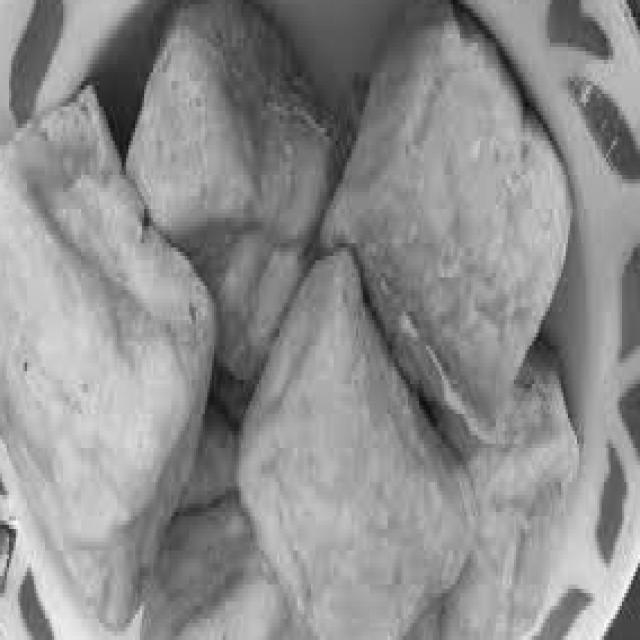tahu: (0, 116, 207, 602), (338, 36, 575, 428), (113, 12, 339, 362), (248, 294, 471, 640)
